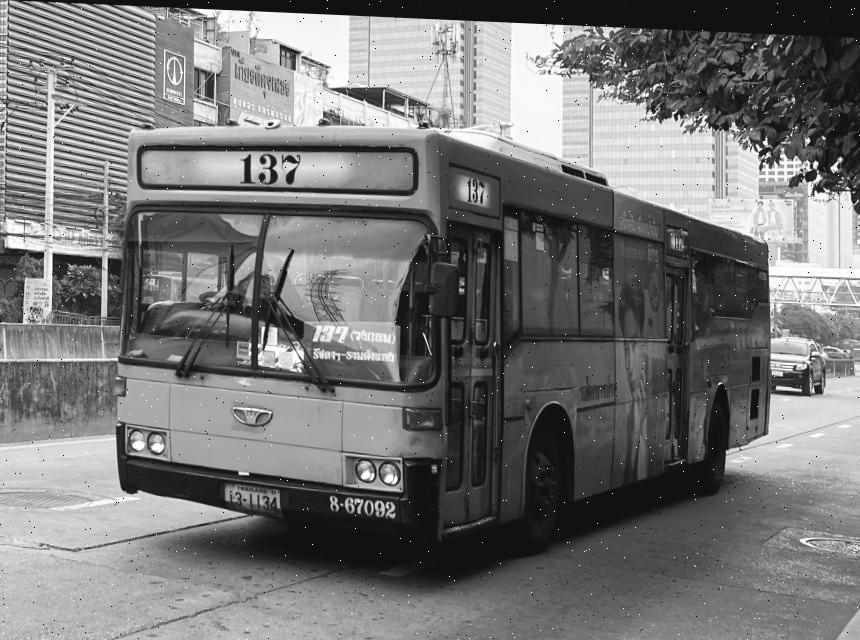BMTA-bus: (112, 122, 774, 547)
Bus Line Number: (222, 140, 313, 187)
Bus Side Number: (323, 487, 397, 518)
Destination Sign: (311, 316, 402, 385)
